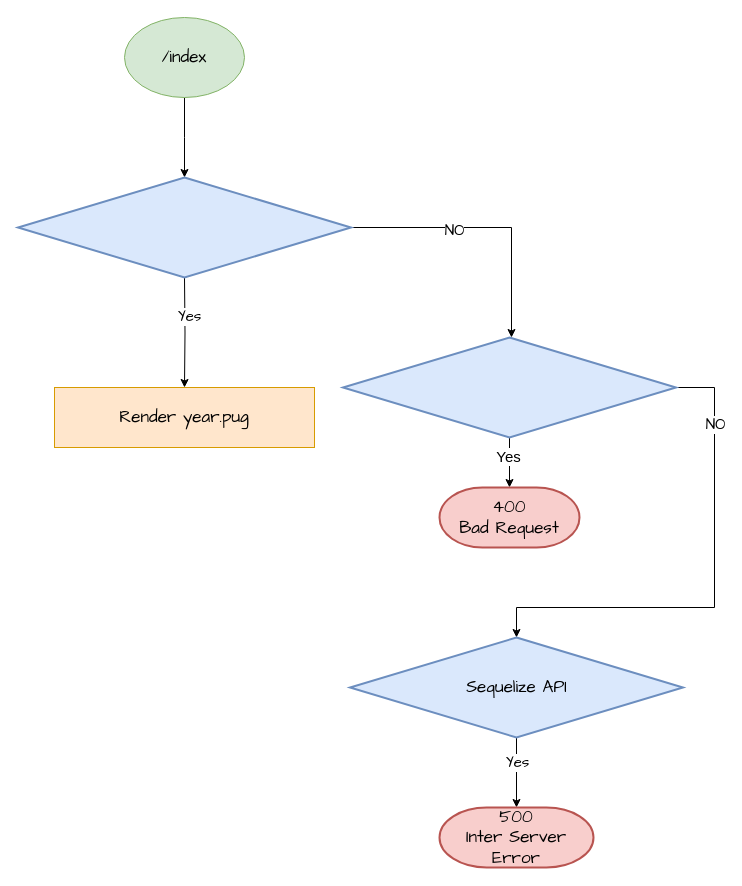
This 742x886 diagram has some shape labels left out. The shapes that lost their labels are listed below. From the top down, each one's centre as x and y in pixels, then its label:
(x=184, y=227): 'getAllYear' method succeed ?
(x=509, y=387): Wrong data argument
